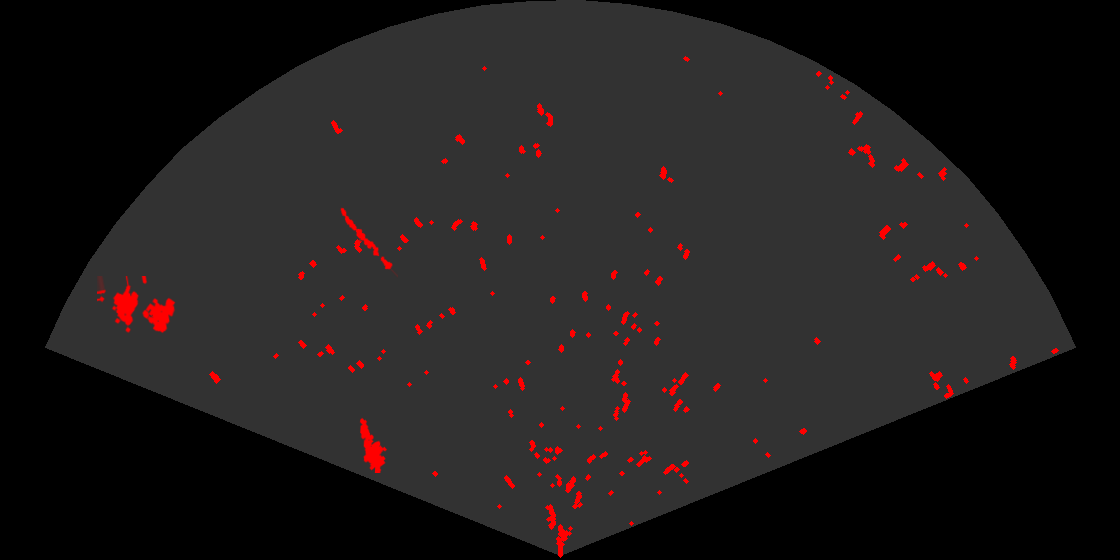cage: (97, 276, 177, 335)
chain: (339, 206, 398, 279)
frogman: (358, 417, 389, 473)
